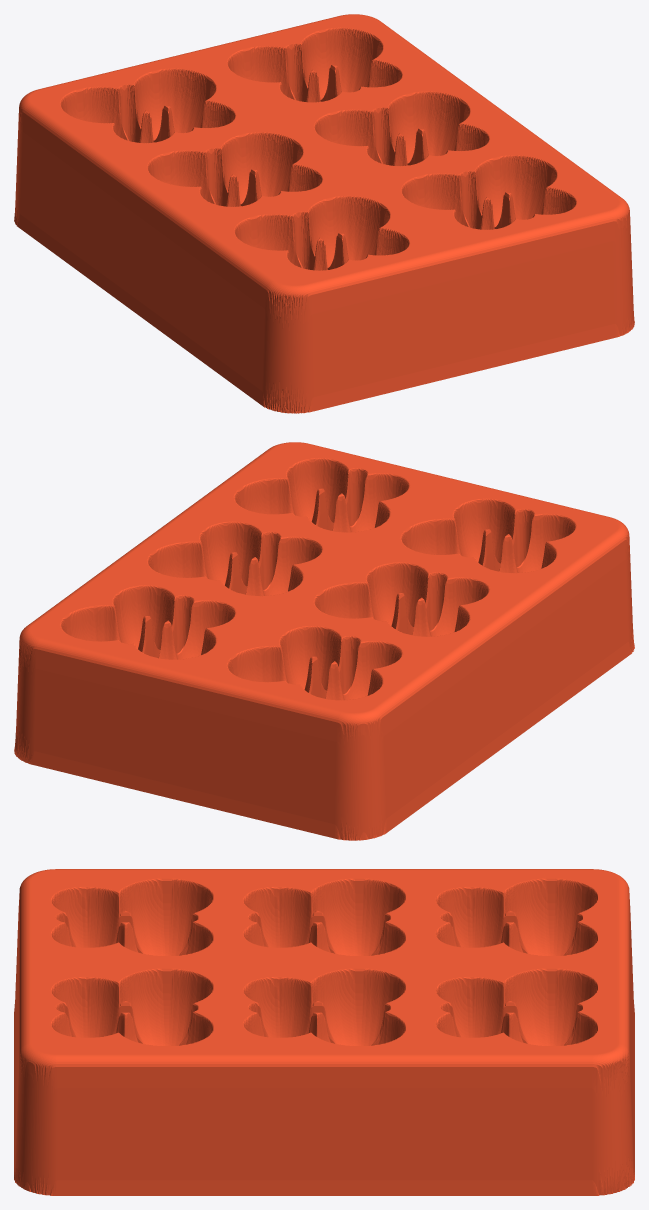
The model's file is mold.glb.
The picture shows the model from 3 angles, top to bottom: view 1: azimuth 30°, elevation 25°; view 2: azimuth 150°, elevation 25°; view 3: azimuth 270°, elevation 25°; orthographic projection. The views are drawn at different scales.
Parts seen in each view (by area): view 1: geometry_0; view 2: geometry_0; view 3: geometry_0.
Boxes of the visible parts, x1=… form: geometry_0: x1=14, y1=14, x2=634, y2=413; geometry_0: x1=14, y1=442, x2=634, y2=840; geometry_0: x1=14, y1=869, x2=634, y2=1195.
Size of the model in its own units: 0.0996 by 0.0314 by 0.1315.
